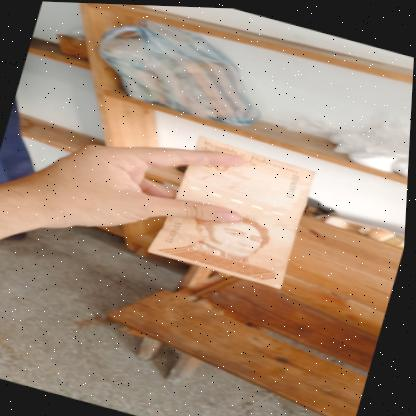twenty-front-vef: (148, 128, 319, 288)
